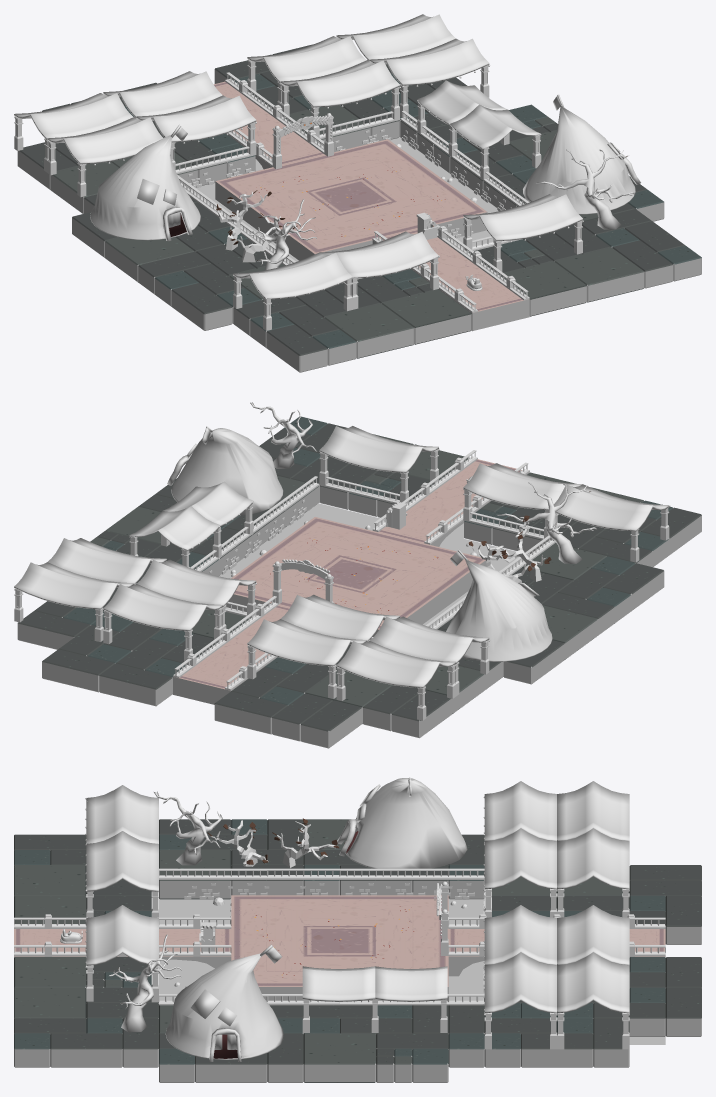
Rendered from boss_world1.fbx.
3 renders of one model, top to bottom at view 1: azimuth 30°, elevation 25°; view 2: azimuth 150°, elevation 25°; view 3: azimuth 270°, elevation 25°, orthographic. The views are drawn at different scales.
Parts seen in each view (by area): view 1: Cube.1821, Cube.059, Cube.1791, tent.001, Cube.1830, tree.003, Cube.1526, Cube.1693, Plane.072, Cube.1621, bridge pillar.003, bridge pillar.016 (+2 smaller); view 2: Cube.1821, Cube.059, Cube.1791, tent.001, Cube.1830, tree.003, Cube.1693, Cube.1526, Plane.072, bridge pillar.016, bridge pillar.003, Sphere.006 (+2 smaller); view 3: Cube.1821, Cube.059, tent.001, Cube.1791, Plane.072, tree.003, Cube.1830, Cube.1526, Cube.1693, bridge pillar.003, bridge pillar.005, Cube.1621 (+3 smaller).
Part boxes in pixels (bbox=[...]): Cube.1821: bbox=[17, 44, 701, 372]; Cube.059: bbox=[14, 14, 582, 330]; Cube.1791: bbox=[215, 139, 487, 260]; tent.001: bbox=[90, 94, 640, 241]; Cube.1830: bbox=[175, 110, 529, 283]; tree.003: bbox=[216, 149, 635, 270]; Cube.1526: bbox=[372, 229, 529, 331]; Cube.1693: bbox=[213, 81, 324, 169]; Plane.072: bbox=[191, 137, 498, 263]; Cube.1621: bbox=[185, 129, 511, 239]; bridge pillar.003: bbox=[432, 221, 529, 300]; bridge pillar.016: bbox=[225, 72, 324, 153]; Cube.1821: bbox=[17, 416, 701, 748]; Cube.059: bbox=[14, 426, 669, 720]; Cube.1791: bbox=[226, 517, 486, 639]; tent.001: bbox=[167, 426, 552, 661]; Cube.1830: bbox=[190, 476, 555, 640]; tree.003: bbox=[250, 402, 597, 582]; Cube.1693: bbox=[173, 605, 289, 704]; Cube.1526: bbox=[378, 459, 529, 546]; Plane.072: bbox=[172, 503, 528, 694]; bridge pillar.016: bbox=[173, 596, 278, 677]; bridge pillar.003: bbox=[372, 450, 477, 531]; Sphere.006: bbox=[272, 561, 333, 604]; Cube.1821: bbox=[14, 819, 701, 1082]; Cube.059: bbox=[86, 781, 629, 1049]; tent.001: bbox=[165, 777, 467, 1061]; Cube.1791: bbox=[231, 895, 448, 1000]; Plane.072: bbox=[159, 898, 665, 1044]; tree.003: bbox=[109, 791, 338, 1032]; Cube.1830: bbox=[151, 868, 491, 1005]; Cube.1526: bbox=[14, 929, 231, 968]; Cube.1693: bbox=[448, 929, 665, 976]; bridge pillar.003: bbox=[14, 941, 231, 956]; bridge pillar.005: bbox=[14, 914, 231, 928]; Cube.1621: bbox=[184, 883, 484, 1000].
Bounding box in the file's own units: 16000 × 3735 × 19000.
